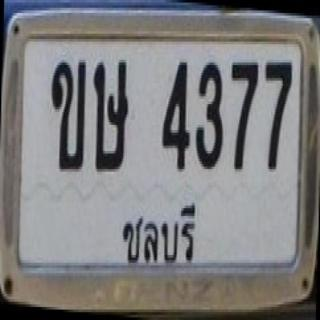A02: (49, 53, 90, 174)
A39: (90, 54, 135, 178)
N03: (194, 57, 227, 176)
N04: (155, 56, 195, 179)
N07: (227, 56, 260, 178), (261, 57, 292, 177)
P13: (110, 195, 204, 267)
